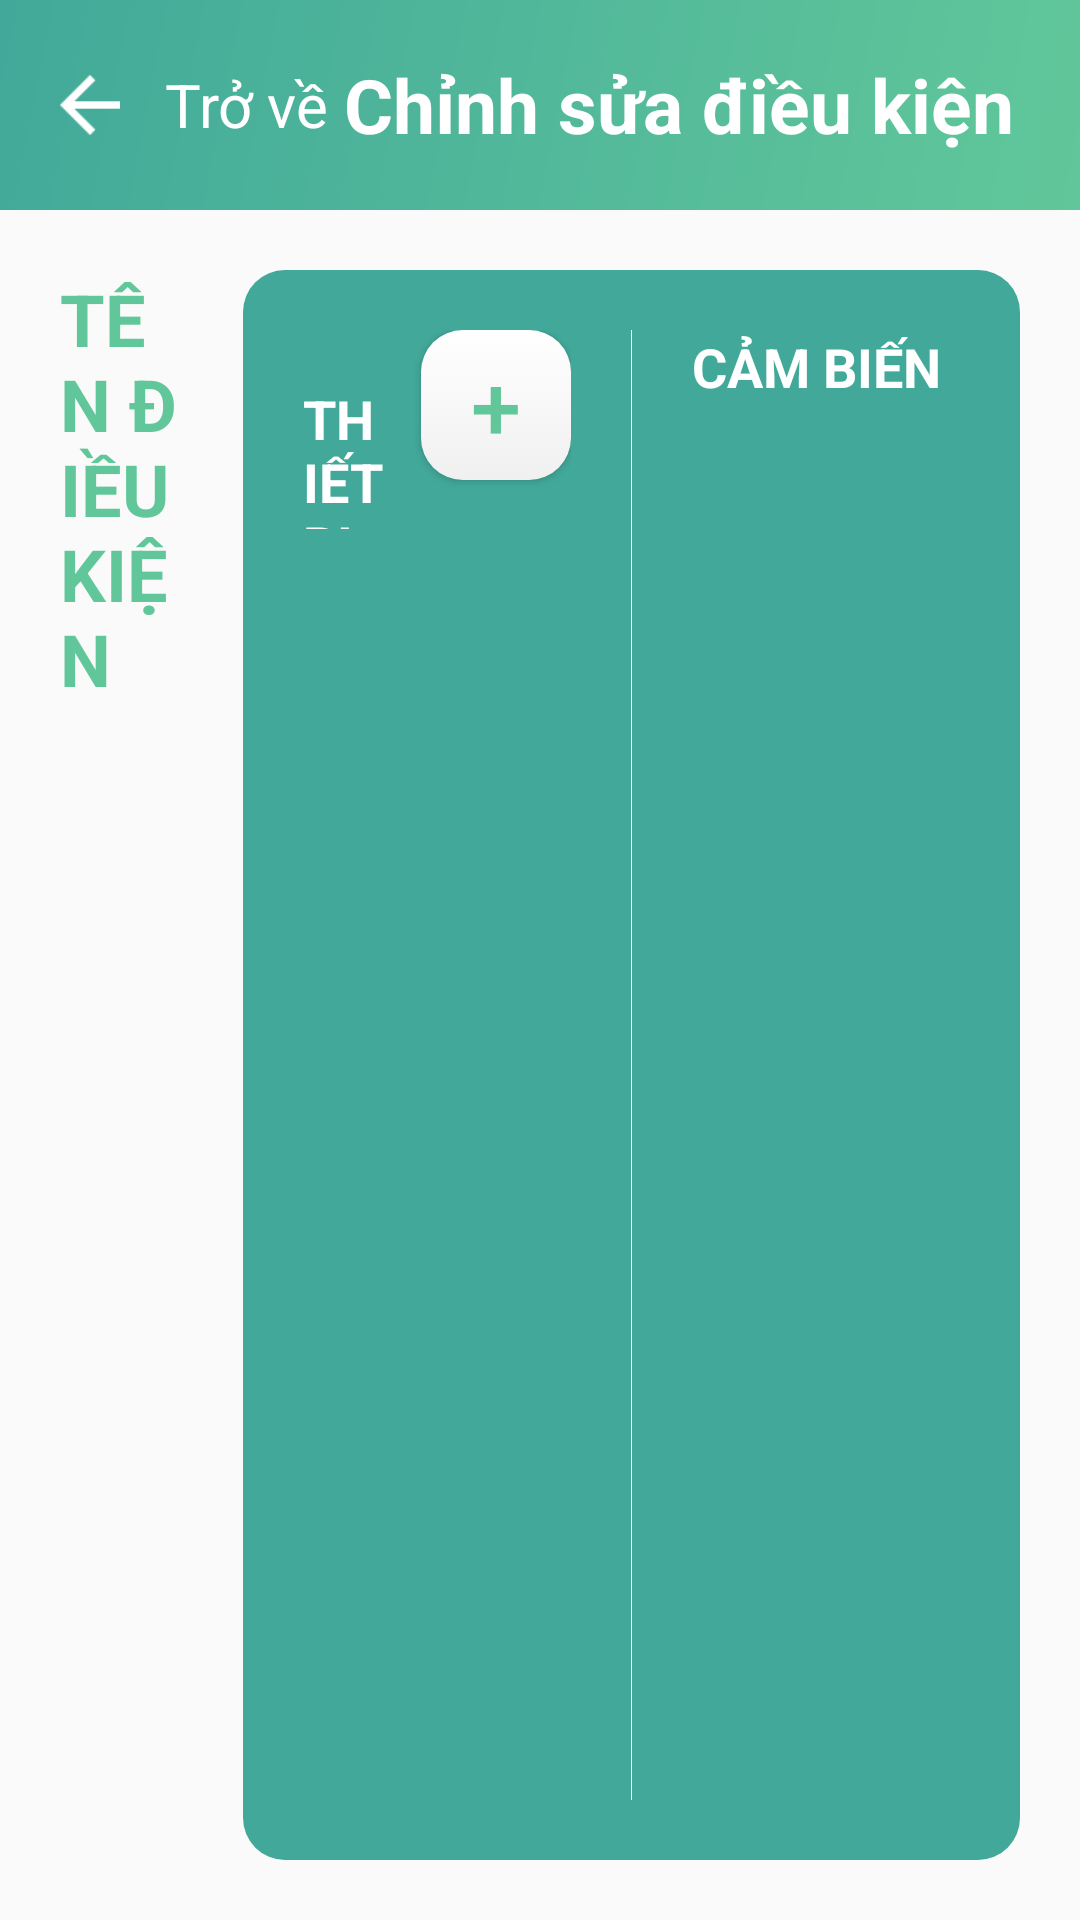

Locate icon controls on the screen. Image size 1080px×1920px, boxes as (x1, y1, x2, y2).
back: (60, 75, 120, 135)
